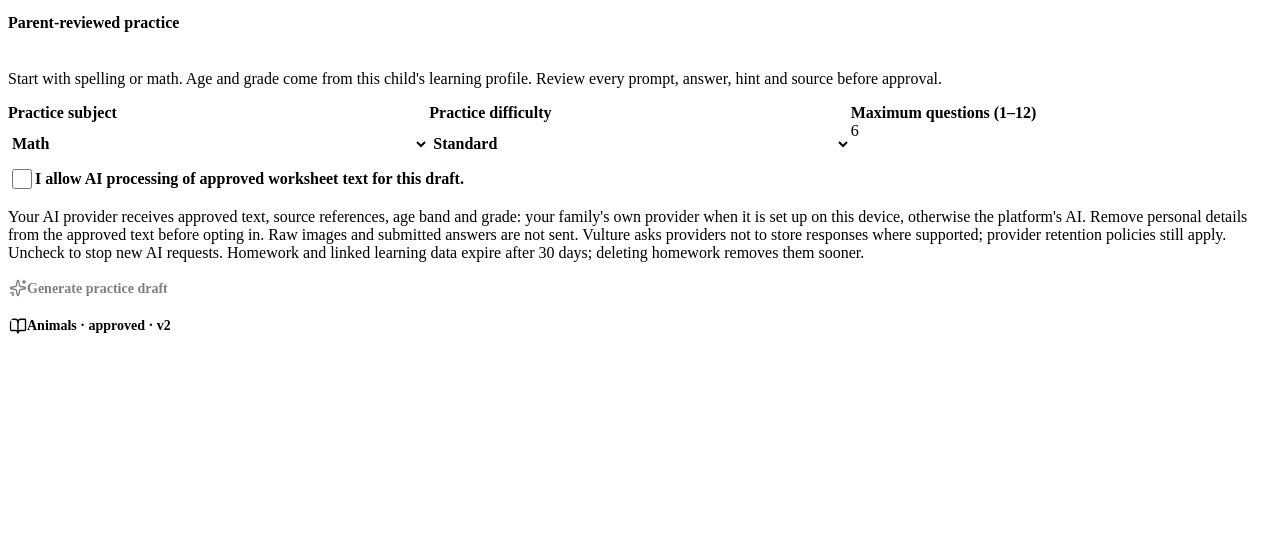
Test: Parent practice workspace › shows assigned homework questions read-only and points back to the homework
What coordinates should you click on to do the following:
click the button "Animals · approved · v2"
I would click on:
 (90, 326)
Its box is [8, 315, 172, 337].
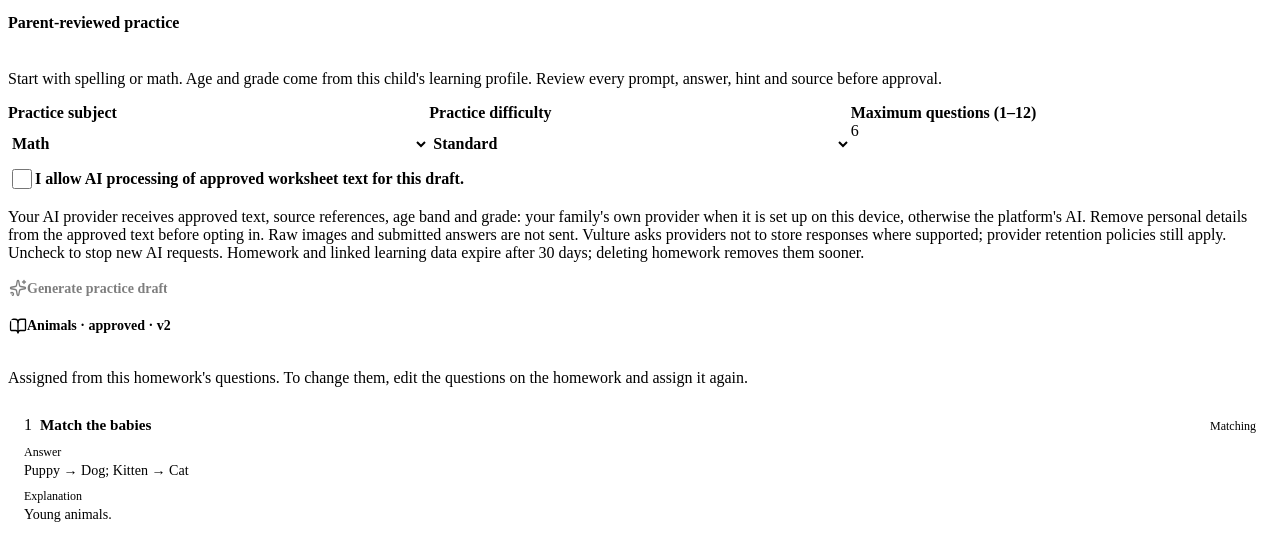
Expected: the text "edit the questions on the homework" is shown, [8, 369, 748, 386]
Expected: the text "Puppy → Dog; Kitten → Cat" is shown, [24, 462, 189, 478]
Expected: the text "Matching" is shown, [1210, 419, 1256, 434]
